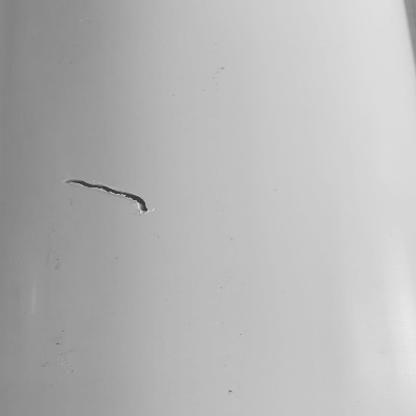fengxi: (62, 176, 151, 216)
